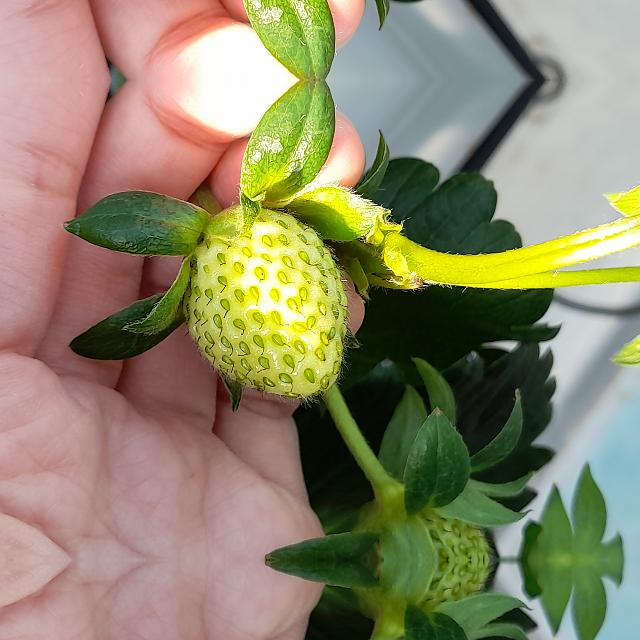Health_25: (182, 206, 352, 407)
